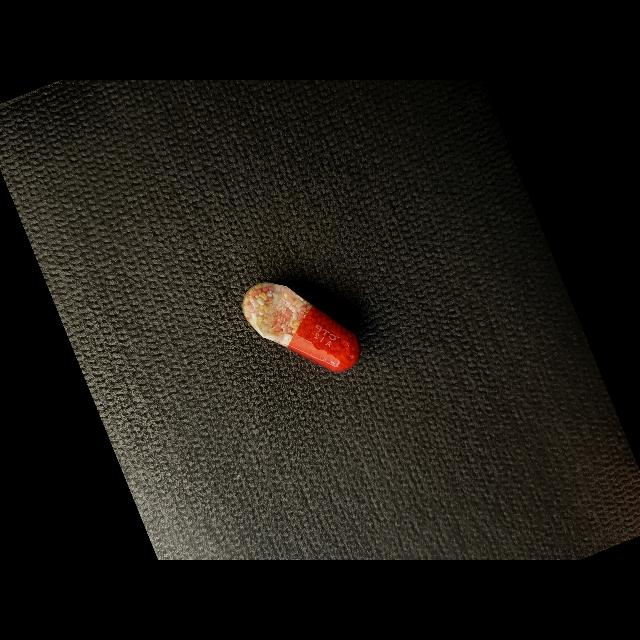Defective Capsule: (242, 282, 360, 372)
